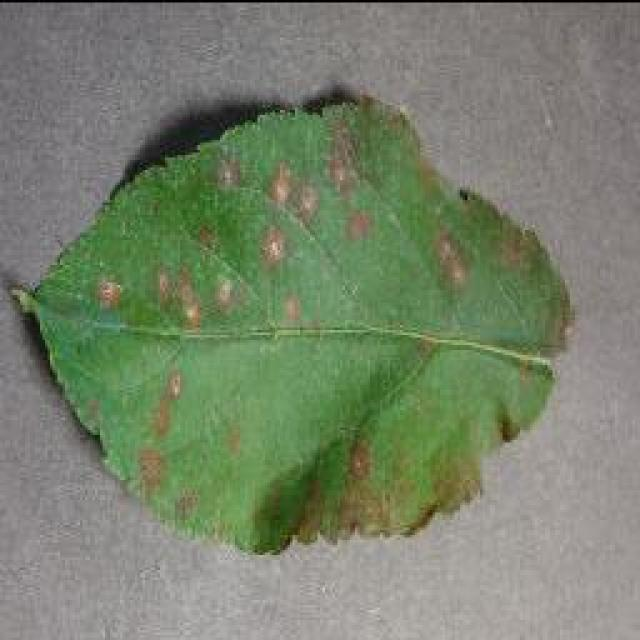apple scab disease: (7, 87, 575, 555)
